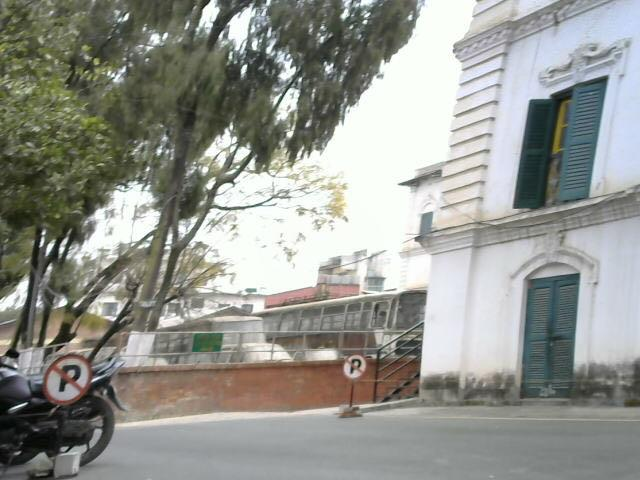Building: (419, 0, 640, 412)
Road: (116, 416, 640, 480)
Traffic sign: (33, 351, 94, 480), (344, 354, 371, 421)
Tree: (0, 1, 398, 296)
